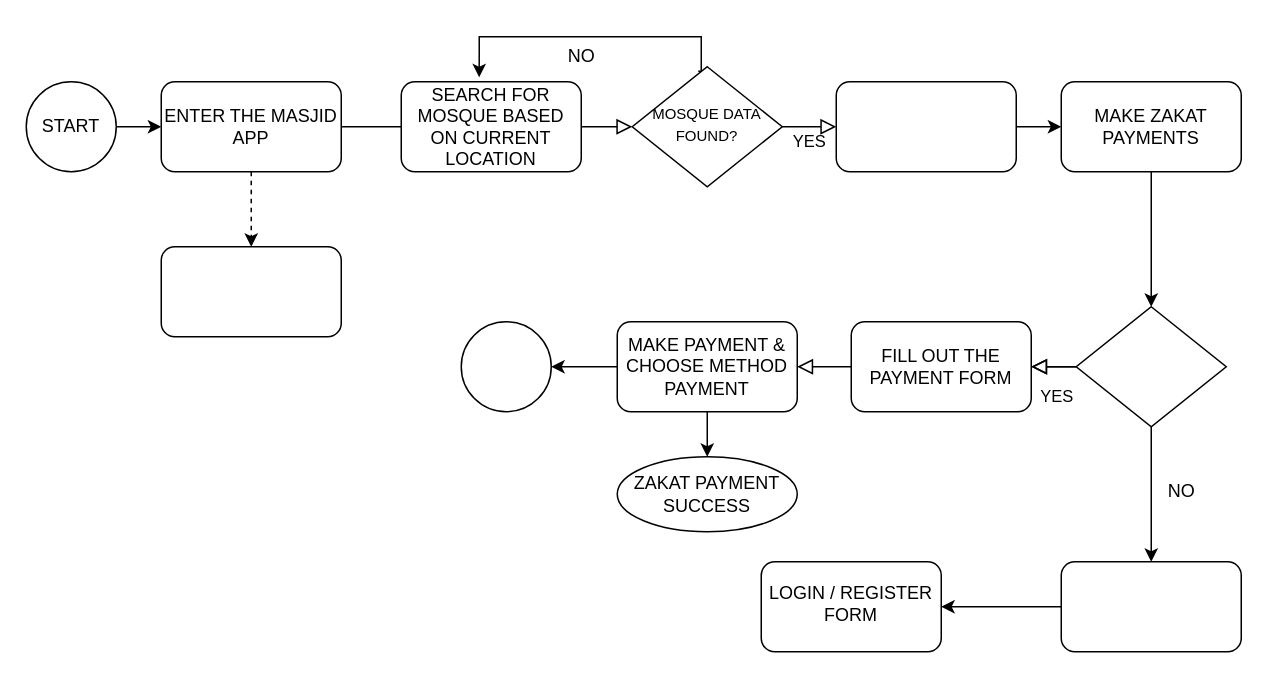
The diagram is 1268 pixels wide and 678 high, and some of its shapes have lost their labels. Each missing label, with the centre of its shape:
END: point (505, 366)
HAVE AN ACCOUNT?: point (1150, 366)
LOGIN/REGISTER AN ACCOUNT FIRST: point (1150, 606)
NOT REGISTERED OR LOGGED IN YET: point (250, 291)
VIEW DETAILED INFORMATION: point (925, 126)
